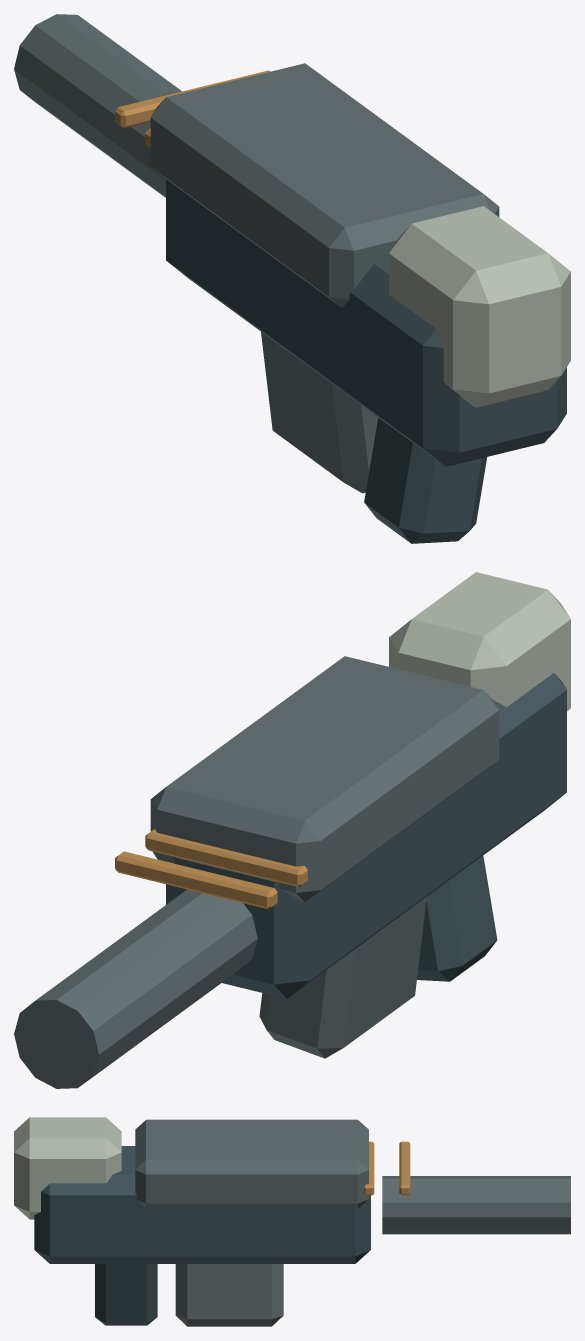
The model's file is autocannon.glb.
3 views of the same model, one above another, from view 1: azimuth 30°, elevation 25°; view 2: azimuth 150°, elevation 25°; view 3: azimuth 270°, elevation 25° (orthographic). The views are drawn at different scales.
Visible parts, largest first — view 1: weapon; view 2: weapon; view 3: weapon.
Boxes of the visible parts, x1,y1,x2,y2 form: weapon: [14, 14, 570, 543]; weapon: [14, 572, 570, 1088]; weapon: [14, 1117, 570, 1326].
Size of the model in its own units: 0.26 by 0.4796 by 1.24.
